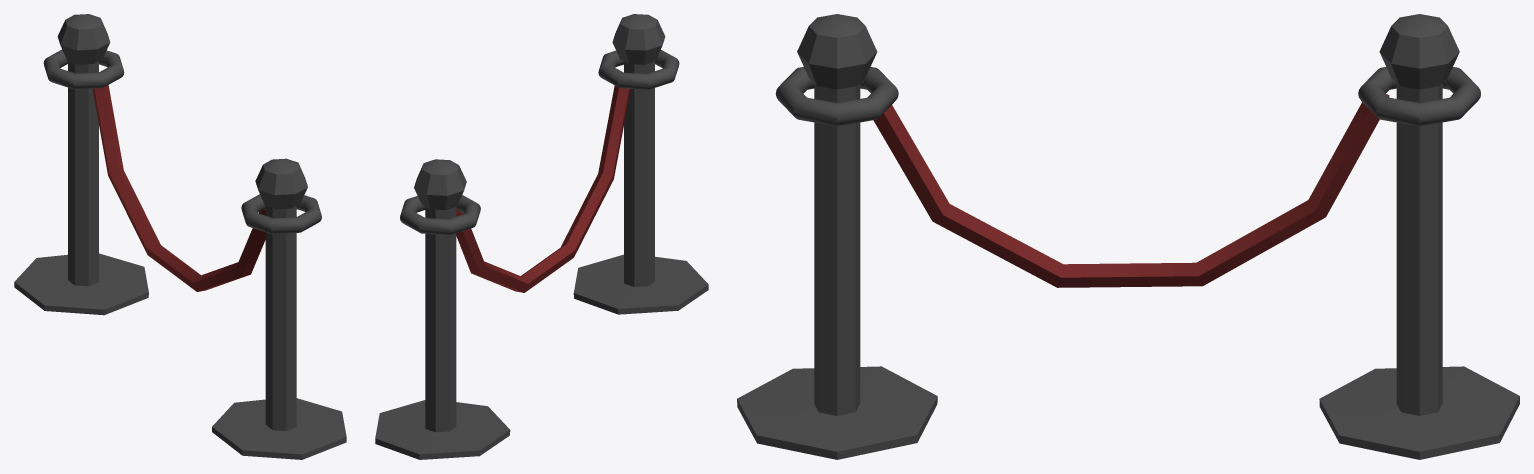
Rendered from RopeTies.fbx.
The picture shows the model from 3 angles, left to right: view 1: azimuth 30°, elevation 25°; view 2: azimuth 150°, elevation 25°; view 3: azimuth 270°, elevation 25°; orthographic projection. The views are drawn at different scales.
Parts seen in each view (by area): view 1: Rod_2, Rod, Rope, Top, Top_2, Ring, Ring_2; view 2: Rod, Rod_2, Rope, Top_2, Top, Ring, Ring_2; view 3: Rod, Rod_2, Rope, Top_2, Top, Ring_2, Ring.
Boxes of the visible parts, box(x1,y1,x2,y2) form: Rod_2: box(212, 206, 346, 459); Rod: box(14, 61, 148, 315); Rope: box(92, 85, 265, 291); Top: box(57, 14, 110, 64); Top_2: box(255, 158, 307, 209); Ring: box(43, 49, 124, 89); Ring_2: box(241, 194, 321, 234); Rod: box(375, 206, 510, 459); Rod_2: box(573, 61, 708, 314); Rope: box(456, 85, 630, 292); Top_2: box(612, 14, 665, 64); Top: box(414, 159, 466, 210); Ring: box(400, 195, 480, 235); Ring_2: box(598, 50, 679, 89); Rod: box(1319, 83, 1519, 459); Rod_2: box(737, 83, 937, 459); Rope: box(873, 94, 1389, 287); Top_2: box(797, 14, 877, 89); Top: box(1379, 14, 1459, 89); Ring_2: box(775, 67, 898, 126); Ring: box(1358, 67, 1480, 126).
Size of the model in its own units: 165 by 374 by 662.
